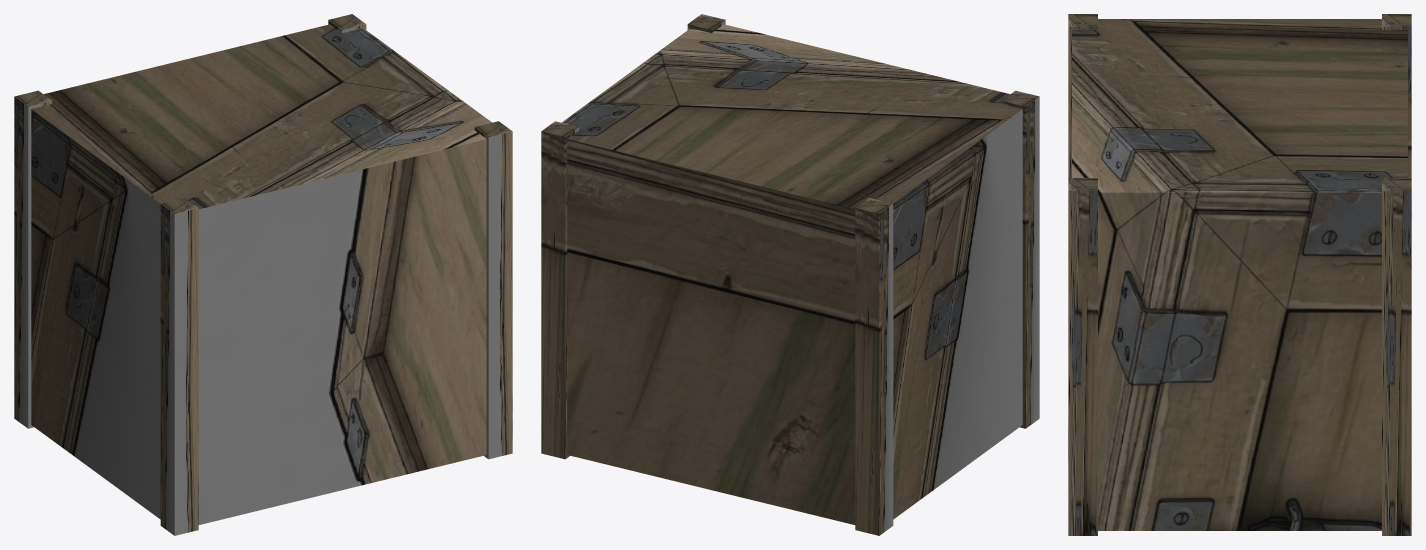
Rendered from crate.glb.
The picture shows the model from 3 angles, left to right: view 1: azimuth 30°, elevation 25°; view 2: azimuth 150°, elevation 25°; view 3: azimuth 270°, elevation 25°; orthographic projection. The views are drawn at different scales.
Visible parts, largest first — view 1: Cube; view 2: Cube; view 3: Cube.
Boxes of the visible parts, x1,y1,x2,y2 form: Cube: (14, 14, 512, 535); Cube: (541, 14, 1039, 535); Cube: (1068, 14, 1411, 535).
Bounding box in the file's own units: 1.12 × 1.02 × 0.92.
1 material, 1 textured.
